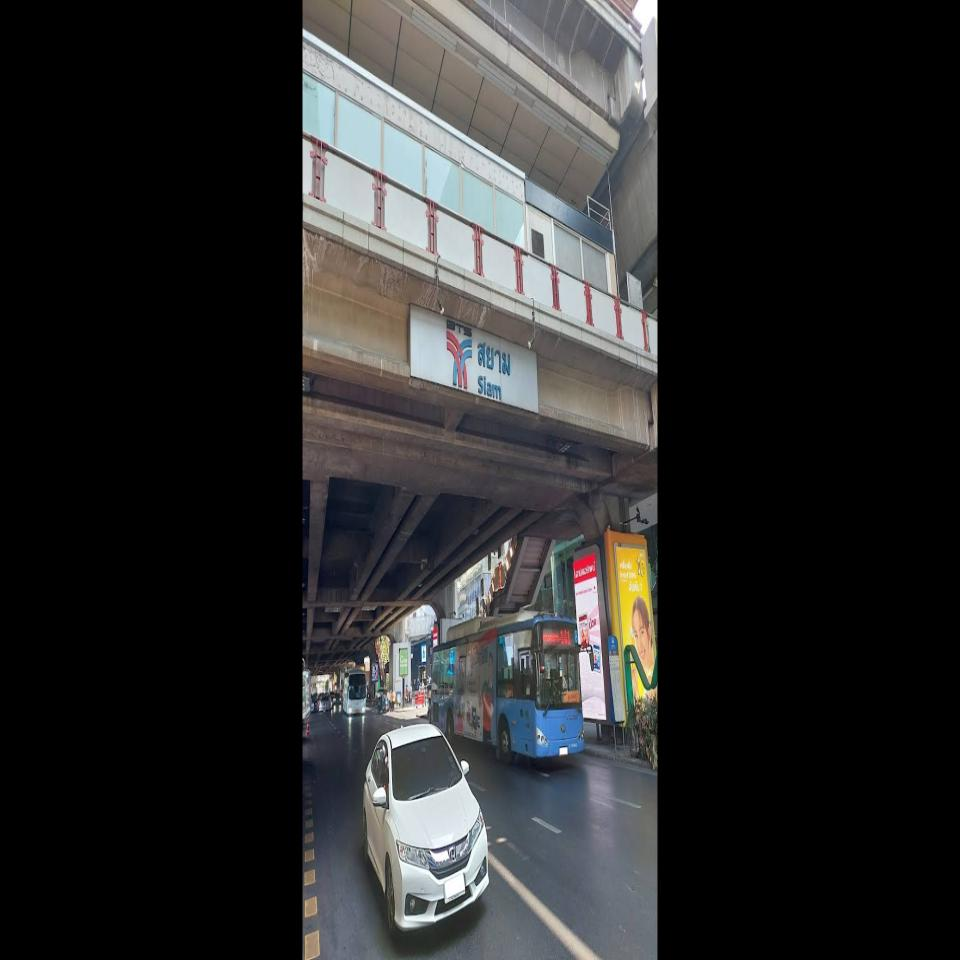signage: (446, 317, 513, 403), (477, 340, 512, 403)
